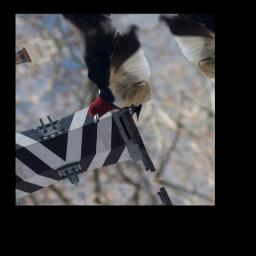Woodpecker: (52, 19, 174, 134)
